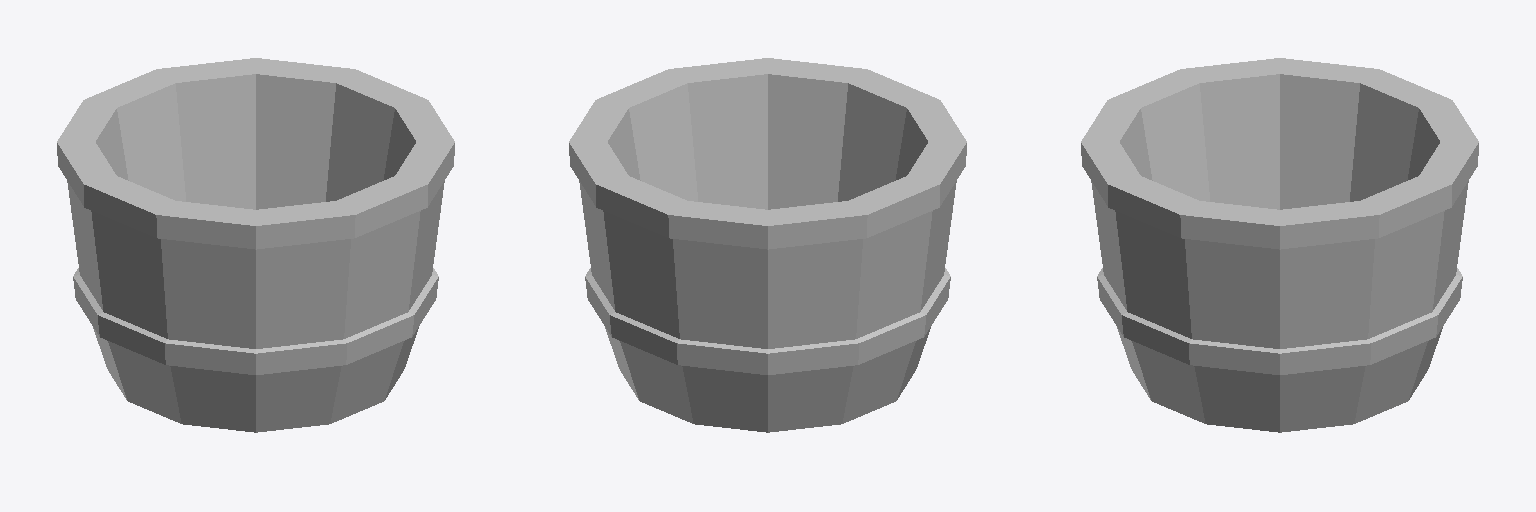
File: crate_3.obj
3 renders of one model, left to right at view 1: azimuth 30°, elevation 25°; view 2: azimuth 150°, elevation 25°; view 3: azimuth 270°, elevation 25°, orthographic.
Visible parts, largest first — view 1: bucket_bucket_0; view 2: bucket_bucket_0; view 3: bucket_bucket_0.
Boxes of the visible parts, x1,y1,x2,y2 form: bucket_bucket_0: [57, 58, 454, 432]; bucket_bucket_0: [569, 58, 966, 432]; bucket_bucket_0: [1081, 58, 1478, 432].
Size of the model in its own units: 0.5546 by 0.3505 by 0.5546.